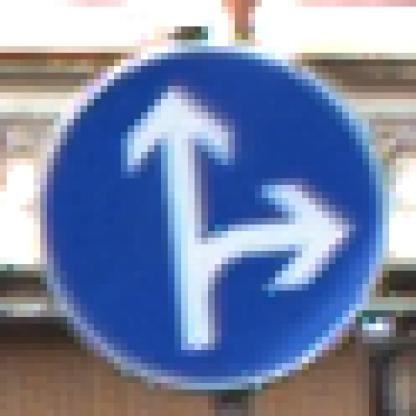Straight or Right: (35, 34, 384, 377)
